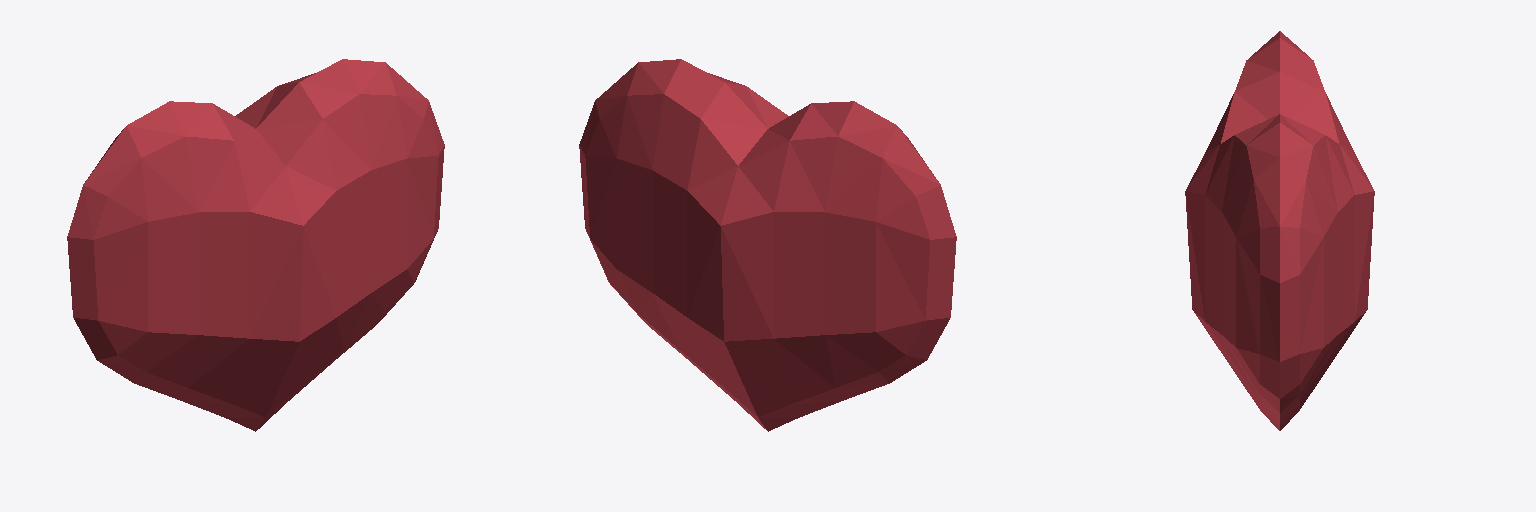
3 views of the same model, side by side, from view 1: azimuth 30°, elevation 25°; view 2: azimuth 150°, elevation 25°; view 3: azimuth 270°, elevation 25° (orthographic).
Visible parts, largest first — view 1: 平面; view 2: 平面; view 3: 平面.
Boxes of the visible parts, x1=… form: 平面: x1=67, y1=59, x2=444, y2=431; 平面: x1=579, y1=59, x2=956, y2=431; 平面: x1=1185, y1=31, x2=1374, y2=430.
Size of the model in its own units: 0.6421 by 0.5714 by 0.2791.
1 materials, 1 textured.